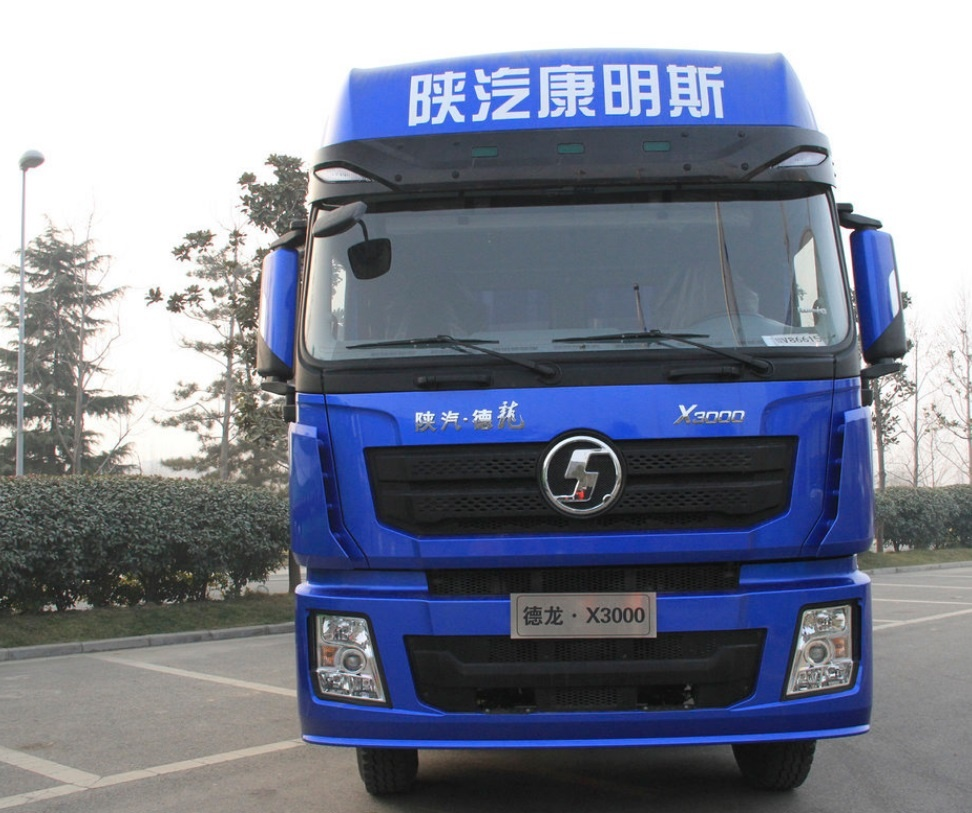heavy truck: (228, 43, 911, 791)
